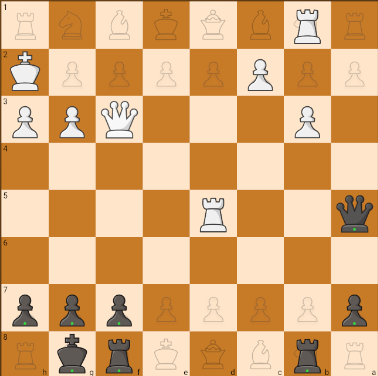bk: (51, 334, 93, 374)
bp: (98, 290, 138, 330), (3, 289, 44, 328), (335, 287, 374, 328), (56, 286, 91, 329)
bq: (333, 191, 378, 237)
br: (288, 337, 327, 375), (99, 334, 137, 373)
wk: (3, 50, 47, 94)
wp: (52, 97, 91, 140), (6, 100, 46, 140), (288, 100, 325, 140), (244, 53, 278, 93)
wq: (97, 98, 141, 141)
wr: (195, 192, 235, 236), (291, 5, 327, 46)
